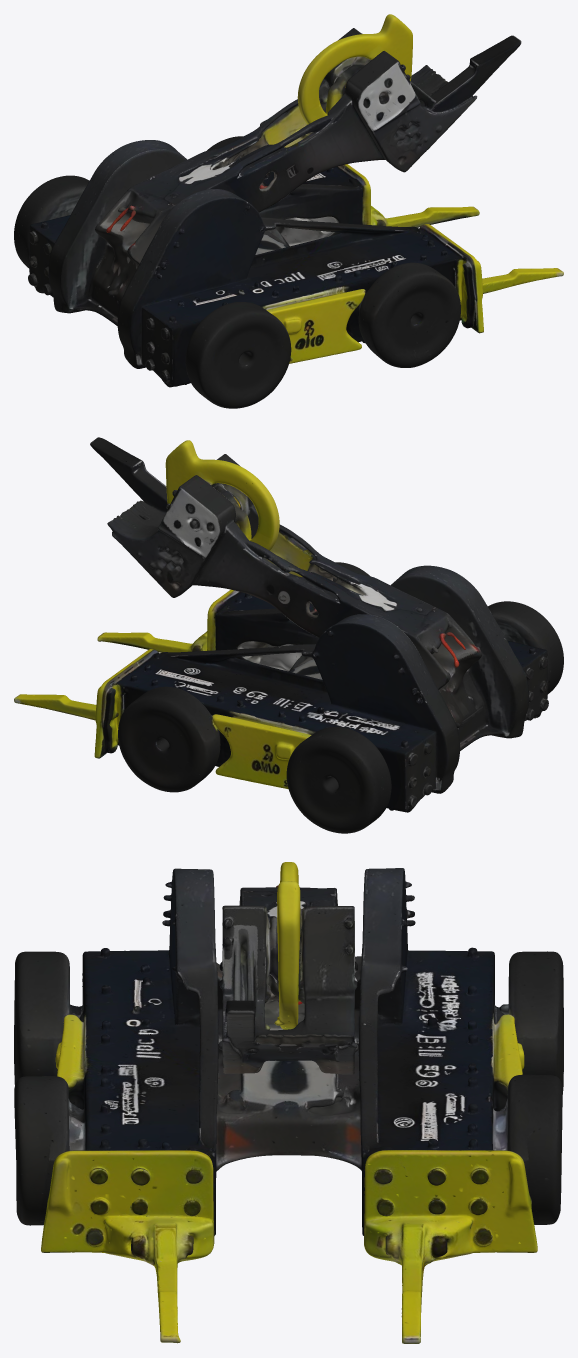
Rendered from whiplash.glb.
3 renders of one model, top to bottom at view 1: azimuth 30°, elevation 25°; view 2: azimuth 150°, elevation 25°; view 3: azimuth 270°, elevation 25°, orthographic. The views are drawn at different scales.
Parts seen in each view (by area): view 1: tripo_part_16, tripo_part_14, tripo_part_6, tripo_part_10, tripo_part_0, tripo_part_1, tripo_part_19, tripo_part_12, tripo_part_23, tripo_part_2, tripo_part_5, tripo_part_20 (+3 smaller); view 2: tripo_part_16, tripo_part_14, tripo_part_19, tripo_part_10, tripo_part_6, tripo_part_23, tripo_part_22, tripo_part_12, tripo_part_0, tripo_part_21, tripo_part_20, tripo_part_5 (+5 smaller); view 3: tripo_part_16, tripo_part_10, tripo_part_21, tripo_part_2, tripo_part_6, tripo_part_1, tripo_part_19, tripo_part_22, tripo_part_0, tripo_part_23, tripo_part_3, tripo_part_15 (+5 smaller).
Part boxes in pixels (x1,y1,x2,y2): tripo_part_16: (28, 166, 461, 387); tripo_part_14: (95, 83, 381, 265); tripo_part_6: (117, 189, 375, 387); tripo_part_10: (321, 28, 521, 172); tripo_part_0: (185, 302, 291, 408); tripo_part_1: (358, 262, 460, 367); tripo_part_19: (48, 140, 187, 312); tripo_part_12: (297, 14, 412, 124); tripo_part_23: (14, 175, 89, 268); tripo_part_2: (420, 224, 483, 333); tripo_part_5: (482, 268, 563, 293); tripo_part_20: (371, 206, 479, 226); tripo_part_16: (50, 592, 547, 812); tripo_part_14: (194, 502, 481, 690); tripo_part_19: (293, 614, 459, 793); tripo_part_10: (90, 437, 254, 597); tripo_part_6: (390, 565, 548, 738); tripo_part_23: (286, 727, 391, 833); tripo_part_22: (118, 686, 220, 792); tripo_part_12: (165, 440, 279, 550); tripo_part_0: (488, 601, 563, 694); tripo_part_21: (94, 649, 158, 758); tripo_part_20: (14, 694, 96, 720); tripo_part_5: (97, 632, 192, 652); tripo_part_16: (55, 947, 524, 1291); tripo_part_10: (218, 905, 358, 1074); tripo_part_21: (364, 1148, 537, 1260); tripo_part_2: (41, 1150, 214, 1252); tripo_part_6: (82, 868, 222, 1103); tripo_part_1: (14, 1076, 82, 1225); tripo_part_19: (354, 868, 415, 1025); tripo_part_22: (499, 1074, 562, 1224); tripo_part_0: (14, 951, 80, 1085); tripo_part_23: (500, 951, 563, 1090); tripo_part_3: (101, 1213, 214, 1289); tripo_part_15: (228, 1000, 350, 1110).
Bounding box in the file's own units: 1 × 0.5939 × 0.7694.
Materials: 24 (24 with a texture image).
